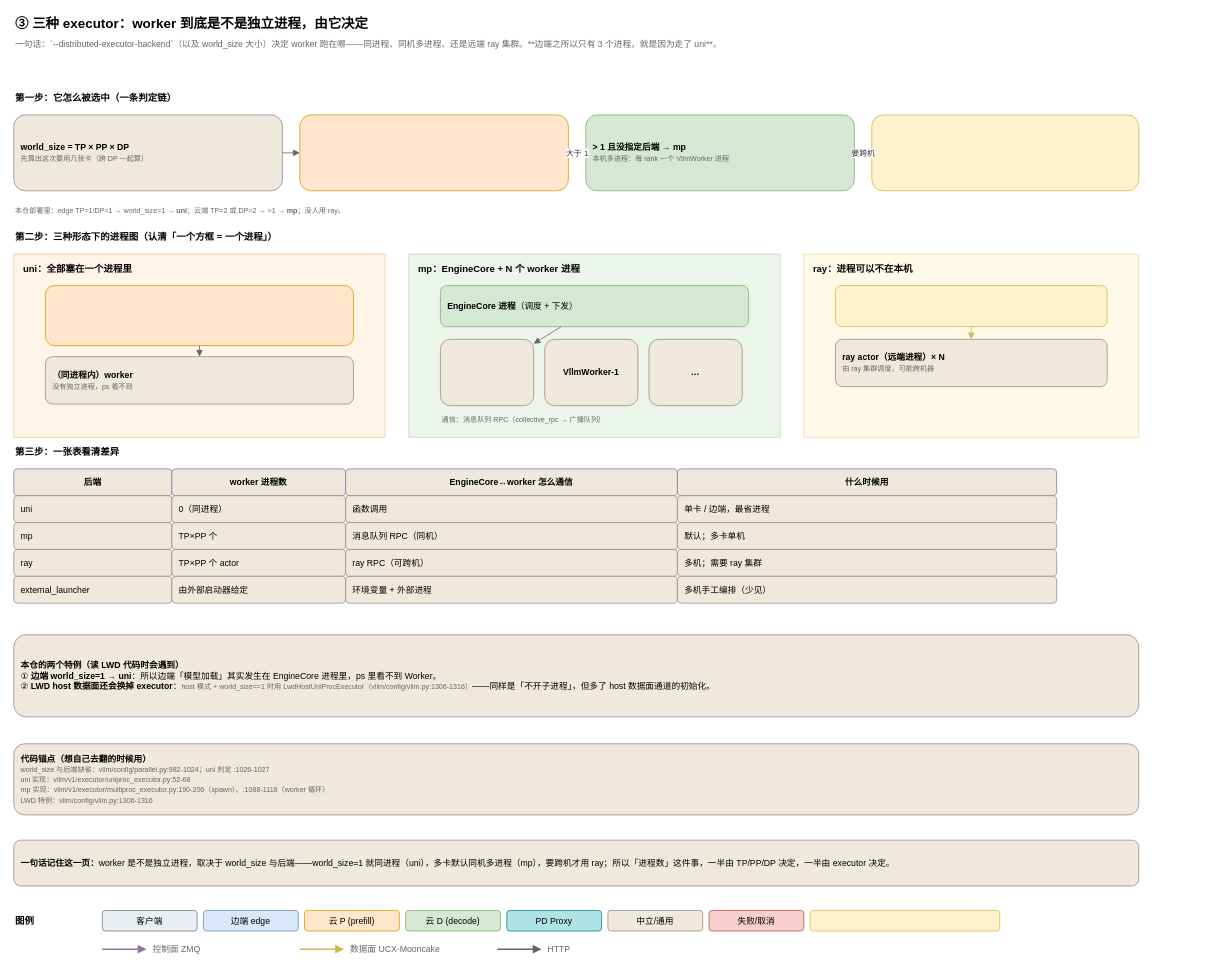
Some shapes in this 1213 by 972 pixel diagram are drawn without their labels. The centre of each missing label's shape, as x and y in pixels:
"= 1 → uni 后端 只有一张卡：worker 直接与 EngineCore 同进程" goes at point 433,152.
"EngineCore 进程" goes at point 971,306.
"EngineCore 进程 调度 + 忙循环 + 模型前向 + 权重，都在这里" goes at point 199,315.
"VllmWorker-0" goes at point 487,372.
"数据面 / 跨机" goes at point 904,920.
"跨机 / 显式指定 → ray 每个 rank 一个 ray actor（远端进程）" goes at point 1005,152.
